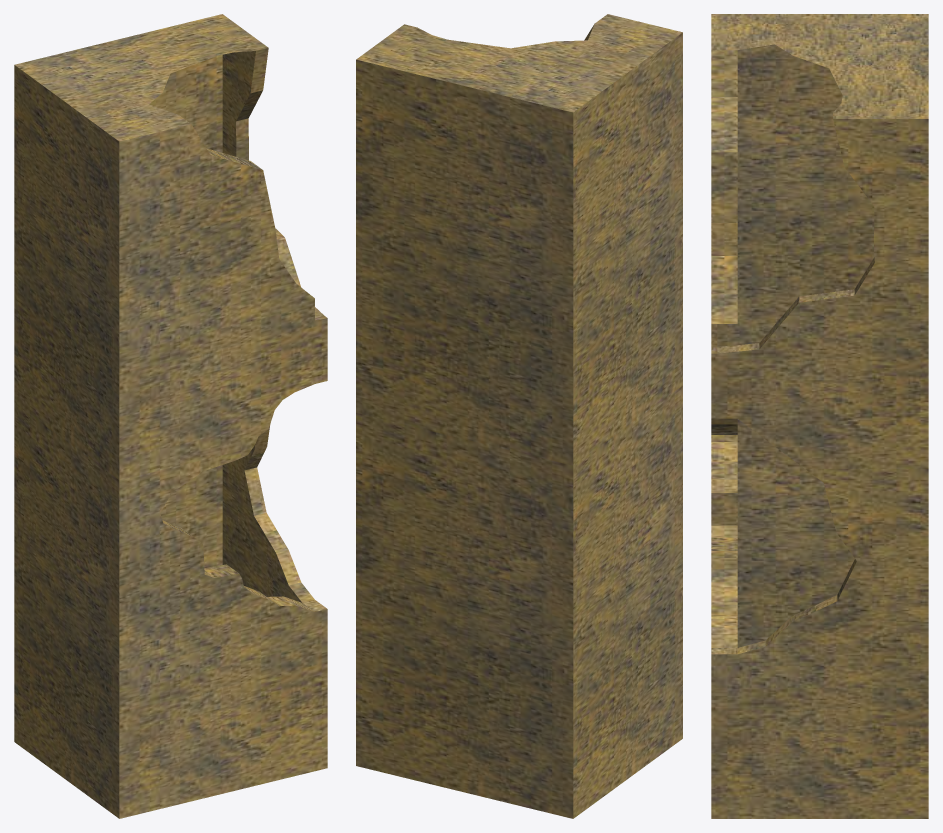
File: Escenario 3 - Escultura.obj
3 renders of one model, left to right at view 1: azimuth 30°, elevation 25°; view 2: azimuth 150°, elevation 25°; view 3: azimuth 270°, elevation 25°, orthographic. The views are drawn at different scales.
Visible parts, largest first — view 1: Mesh1 Group1 Model; view 2: Mesh1 Group1 Model; view 3: Mesh1 Group1 Model.
Boxes of the visible parts, <box> form: Mesh1 Group1 Model: <box>14,14,327,818</box>; Mesh1 Group1 Model: <box>356,14,682,818</box>; Mesh1 Group1 Model: <box>711,14,928,818</box>.
Bounding box in the file's own units: 0.3921 × 1.22 × 0.3429.
2 materials, 1 textured.
